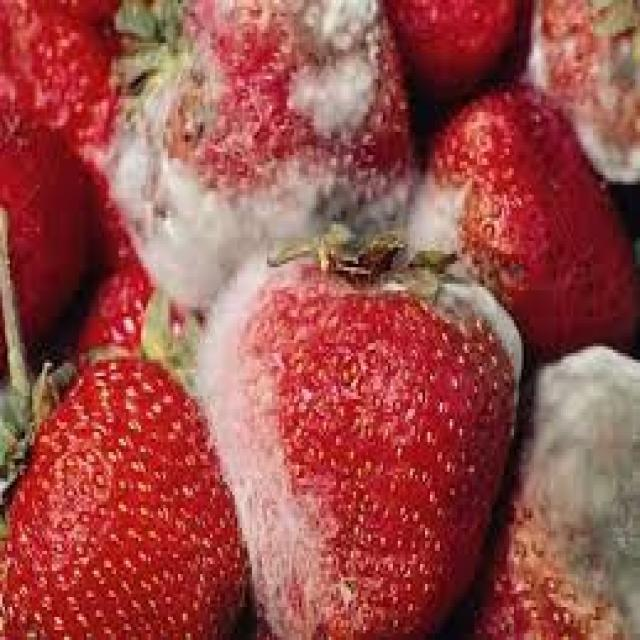Moho gris: (206, 226, 512, 634), (94, 0, 413, 264), (395, 76, 640, 342), (482, 320, 640, 638), (524, 0, 640, 193)
